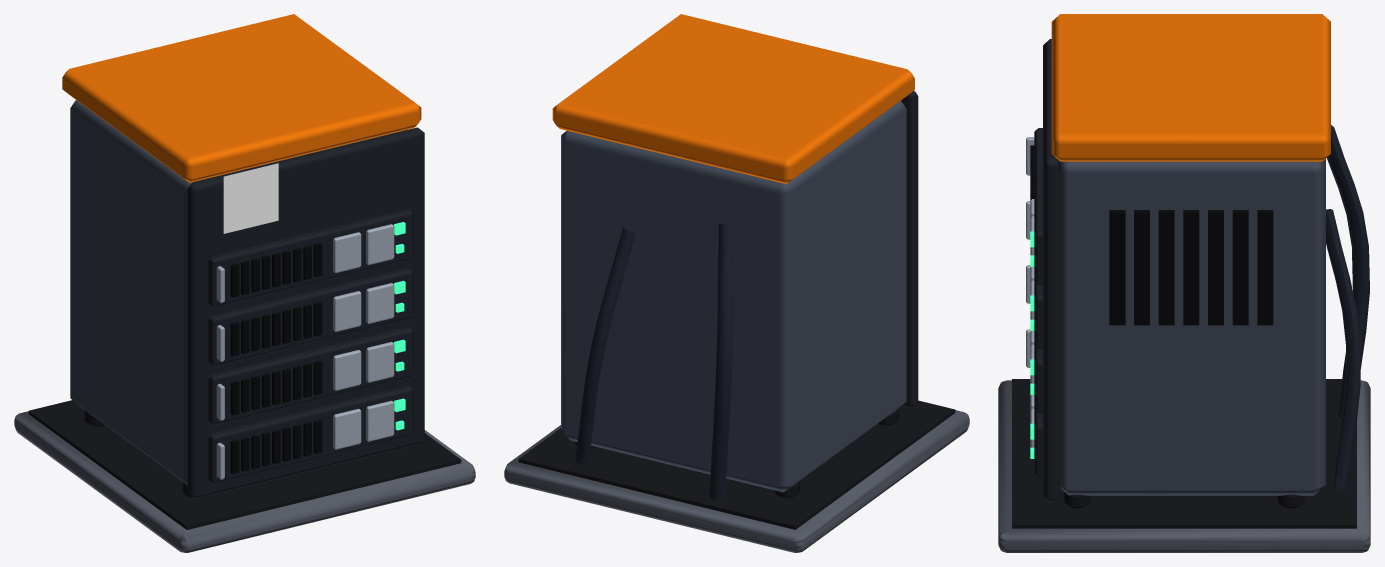
3 views of the same model, side by side, from view 1: azimuth 30°, elevation 25°; view 2: azimuth 150°, elevation 25°; view 3: azimuth 270°, elevation 25° (orthographic). The views are drawn at different scales.
Visible parts, largest first — view 1: body.bezel, body.steel, body.accent, body.rubber, body.concrete, body.vent, body.steel_light, body.badge, body.led; view 2: body.steel, body.accent, body.rubber, body.concrete, body.cable, body.bezel; view 3: body.steel, body.accent, body.rubber, body.vent, body.concrete, body.bezel, body.cable, body.steel_light, body.led.
Part boxes in pixels (<box>): body.bezel: <box>187,127,424,499</box>; body.steel: <box>70,100,407,483</box>; body.accent: <box>62,14,421,182</box>; body.rubber: <box>28,400,461,529</box>; body.concrete: <box>14,411,475,552</box>; body.vent: <box>230,243,322,474</box>; body.steel_light: <box>216,224,394,479</box>; body.badge: <box>223,163,278,233</box>; body.led: <box>394,222,405,430</box>; body.steel: <box>561,101,906,492</box>; body.accent: <box>552,14,914,184</box>; body.rubber: <box>518,400,955,529</box>; body.concrete: <box>504,410,969,552</box>; body.cable: <box>575,223,734,500</box>; body.bezel: <box>901,91,918,408</box>; body.steel: <box>1060,159,1325,495</box>; body.accent: <box>1051,14,1330,161</box>; body.rubber: <box>1012,379,1356,528</box>; body.vent: <box>1030,145,1273,325</box>; body.concrete: <box>998,380,1370,552</box>; body.bezel: <box>1034,39,1060,502</box>; body.cable: <box>1326,125,1369,491</box>; body.steel_light: <box>1026,137,1034,447</box>; body.led: <box>1030,231,1034,458</box>.
Bounding box in the file's own units: 1.08 × 1.29 × 1.08.
